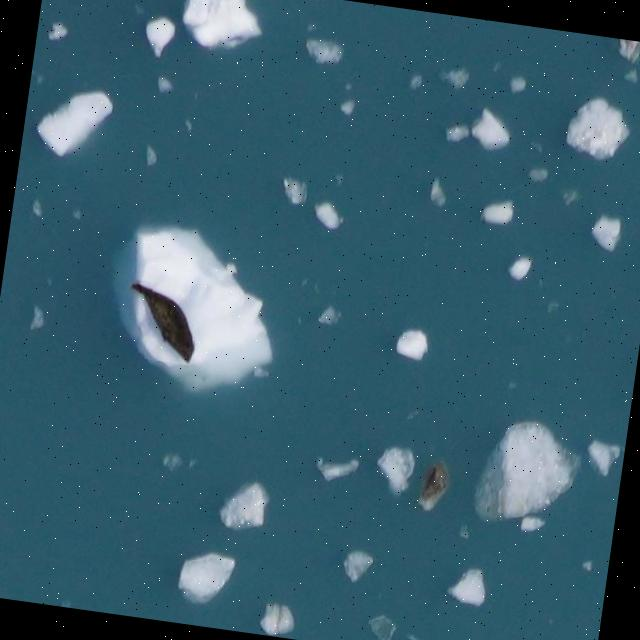seal: (130, 281, 194, 365)
